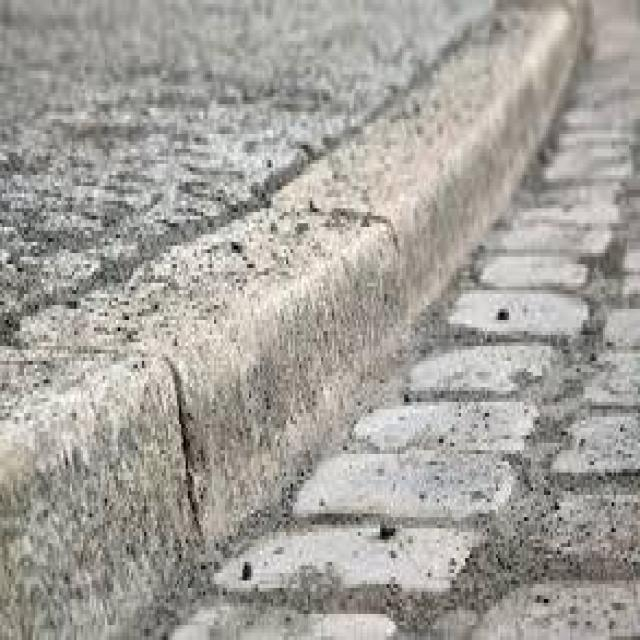curb: (1, 185, 252, 640), (258, 106, 379, 514), (390, 29, 488, 367), (494, 1, 606, 131)
